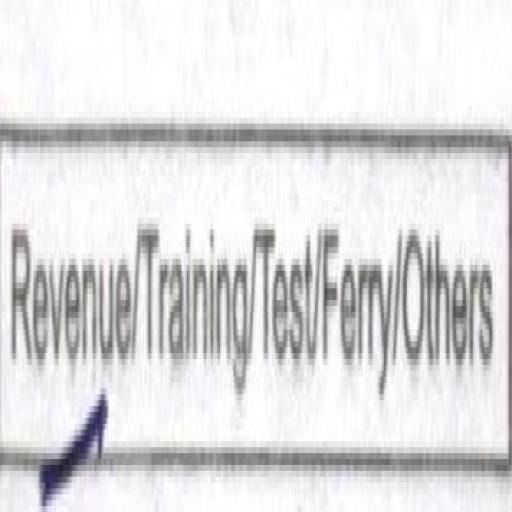check: (3, 106, 131, 512)
